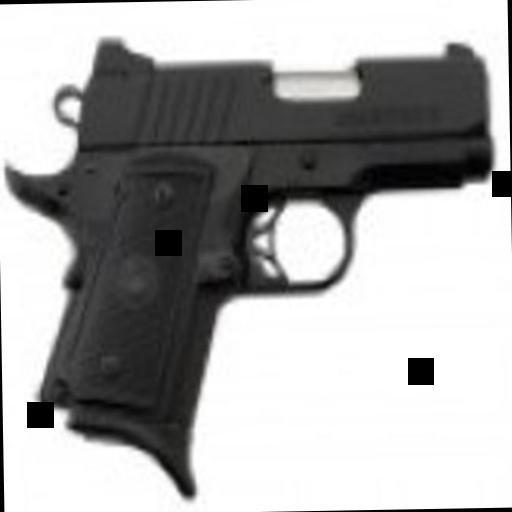Handgun: (0, 28, 499, 493)
